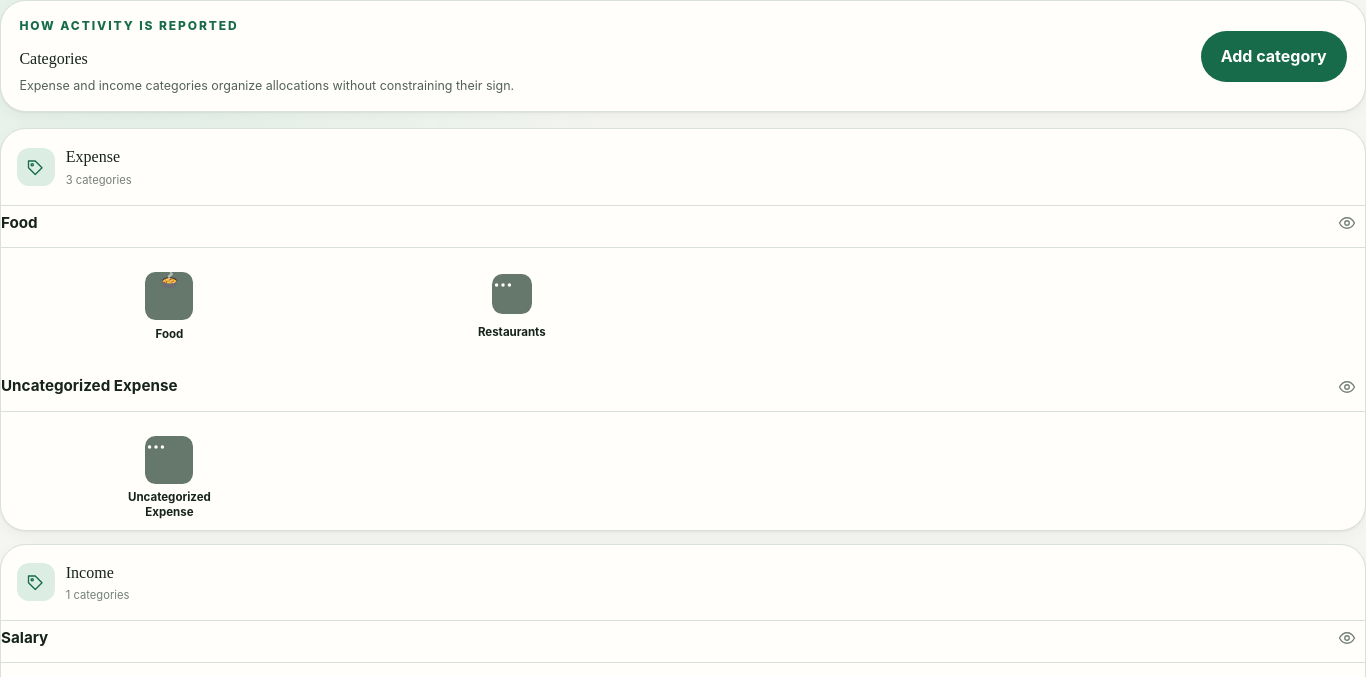
CategoriesPanel presentation › confirms archival and surfaces the active-child protection
What coordinates should you click on to do the following:
click the button "🍲 Food"
I would click on:
 (169, 307)
Its box is [97,262,241,352].
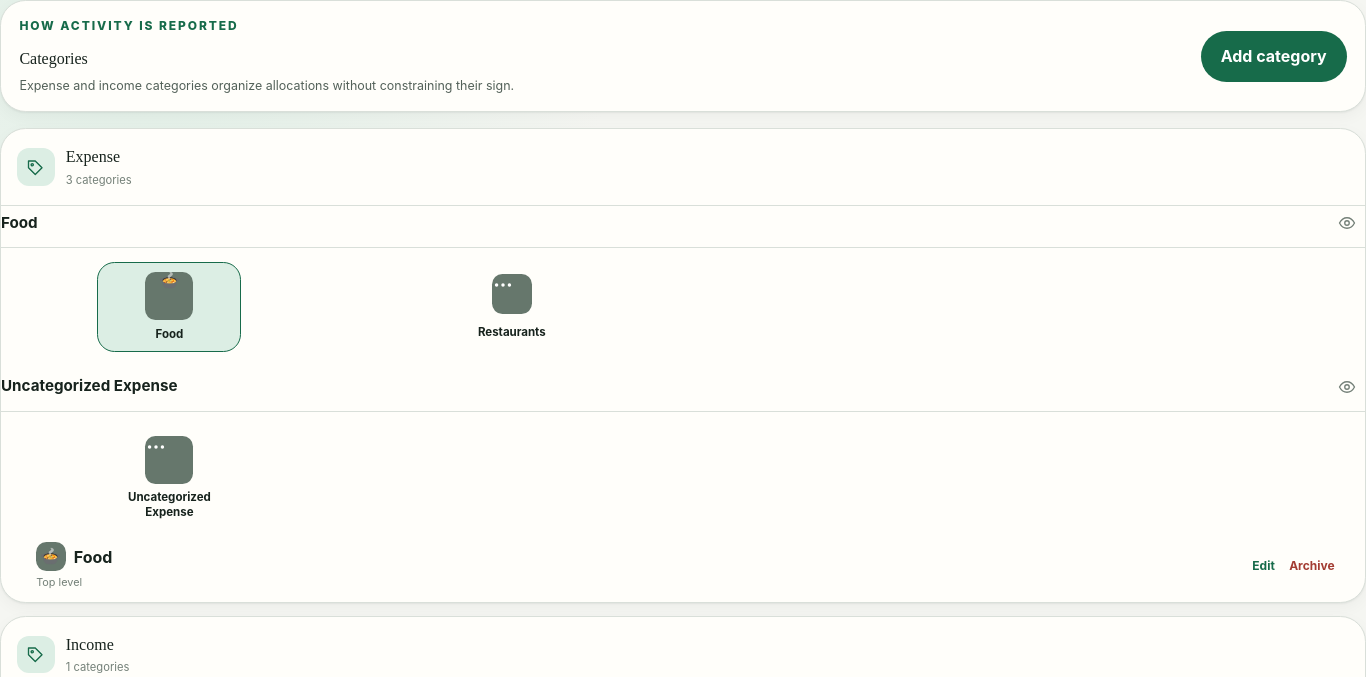
What coordinates should you click on to do the following:
click the button "Archive"
I would click on:
 (1312, 566)
Its box is [1284,548,1340,584].
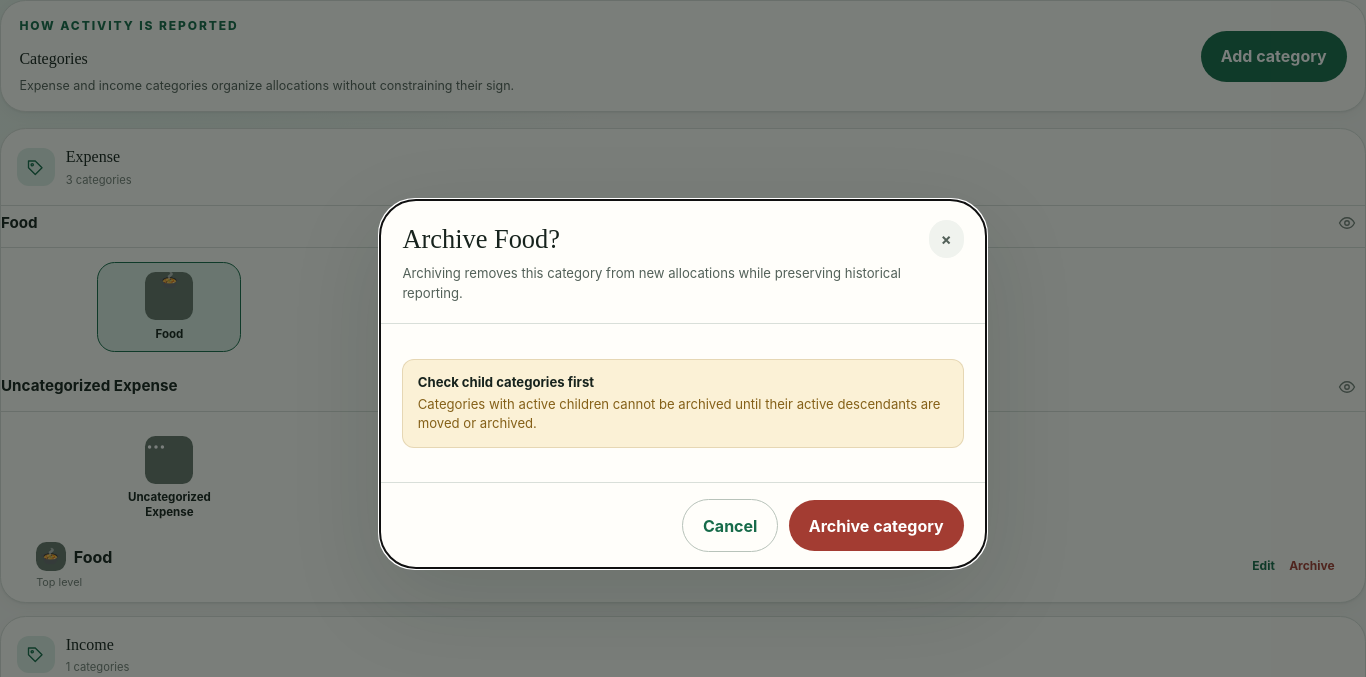
Expected: the dialog "Archive Food?" shows "active children cannot be archived", [418,396,940,431]
What coordinates should you click on to do the following:
click the button "Archive category"
I would click on:
 (876, 526)
Its box is [789,500,964,551].
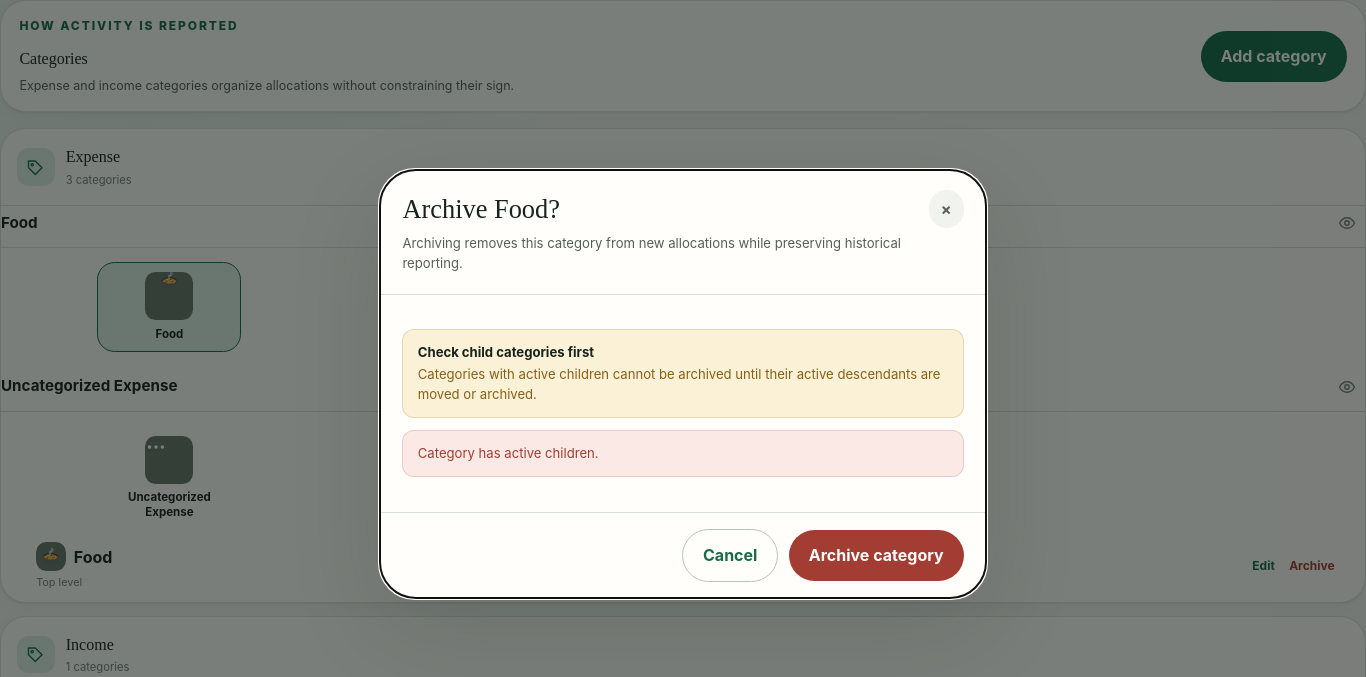
Expected: the message reads "Category has active children.", [418,445,599,461]
